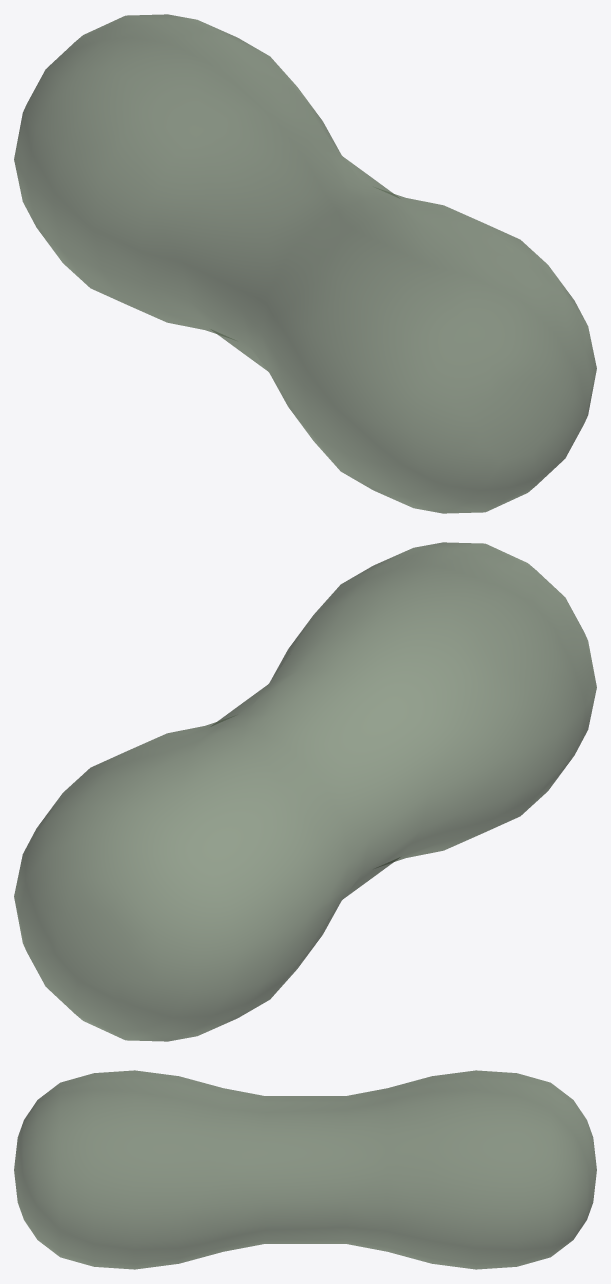
File: microscopic-cells-dividing-cell_v1.glb
3 renders of one model, top to bottom at view 1: azimuth 30°, elevation 25°; view 2: azimuth 150°, elevation 25°; view 3: azimuth 270°, elevation 25°, orthographic. The views are drawn at different scales.
Visible parts, largest first — view 1: Dividing Cell_v1; view 2: Dividing Cell_v1; view 3: Dividing Cell_v1.
Boxes of the visible parts, x1,y1,x2,y2 form: Dividing Cell_v1: [14, 14, 596, 513]; Dividing Cell_v1: [14, 542, 596, 1041]; Dividing Cell_v1: [14, 1070, 596, 1269].
Bounding box in the file's own units: 0.2744 × 0.2744 × 0.8.
